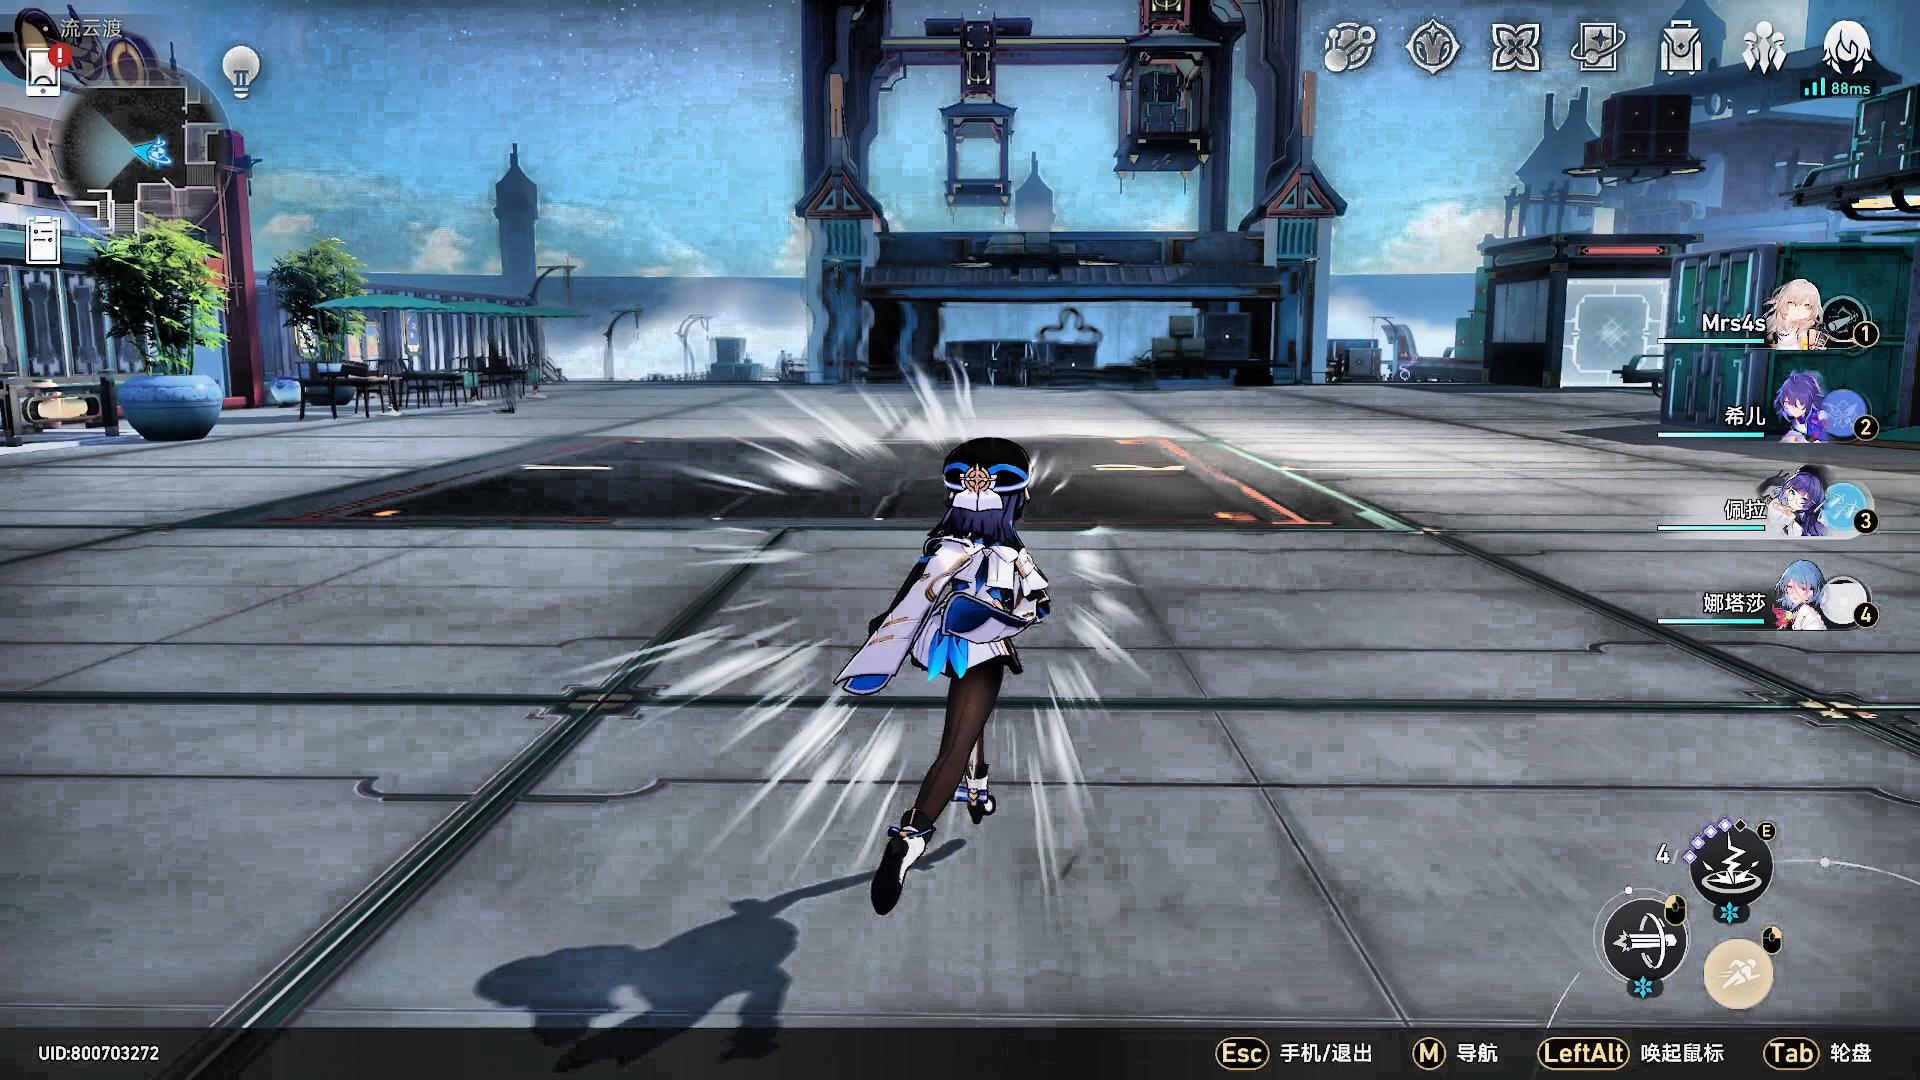Self: (818, 396, 1077, 928)
